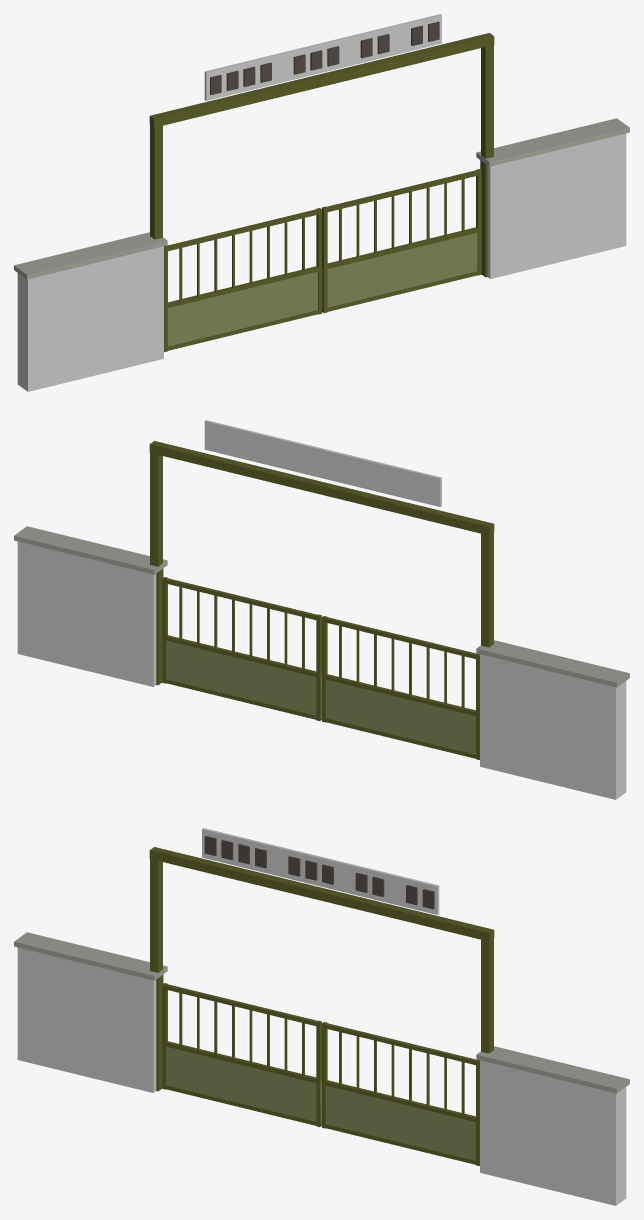
File: SM_PuertaValla_v0_LOD0.fbx
3 renders of one model, top to bottom at view 1: azimuth 30°, elevation 25°; view 2: azimuth 150°, elevation 25°; view 3: azimuth 330°, elevation 25°, orthographic.
Visible parts, largest first — view 1: SM_bloques.puerta_valla_v0_LOD0, Hoja_E, Hoja_O; view 2: SM_bloques.puerta_valla_v0_LOD0, Hoja_E, Hoja_O; view 3: SM_bloques.puerta_valla_v0_LOD0, Hoja_O, Hoja_E.
Boxes of the visible parts, x1=… form: SM_bloques.puerta_valla_v0_LOD0: x1=14, y1=14, x2=629, y2=391; Hoja_E: x1=322, y1=169, x2=481, y2=313; Hoja_O: x1=164, y1=208, x2=321, y2=351; SM_bloques.puerta_valla_v0_LOD0: x1=14, y1=420, x2=629, y2=799; Hoja_E: x1=162, y1=577, x2=321, y2=720; Hoja_O: x1=322, y1=616, x2=479, y2=759; SM_bloques.puerta_valla_v0_LOD0: x1=14, y1=828, x2=629, y2=1205; Hoja_O: x1=162, y1=983, x2=321, y2=1127; Hoja_E: x1=322, y1=1022, x2=479, y2=1165.
Size of the model in its own units: 13.3 by 5.75 by 0.5.
